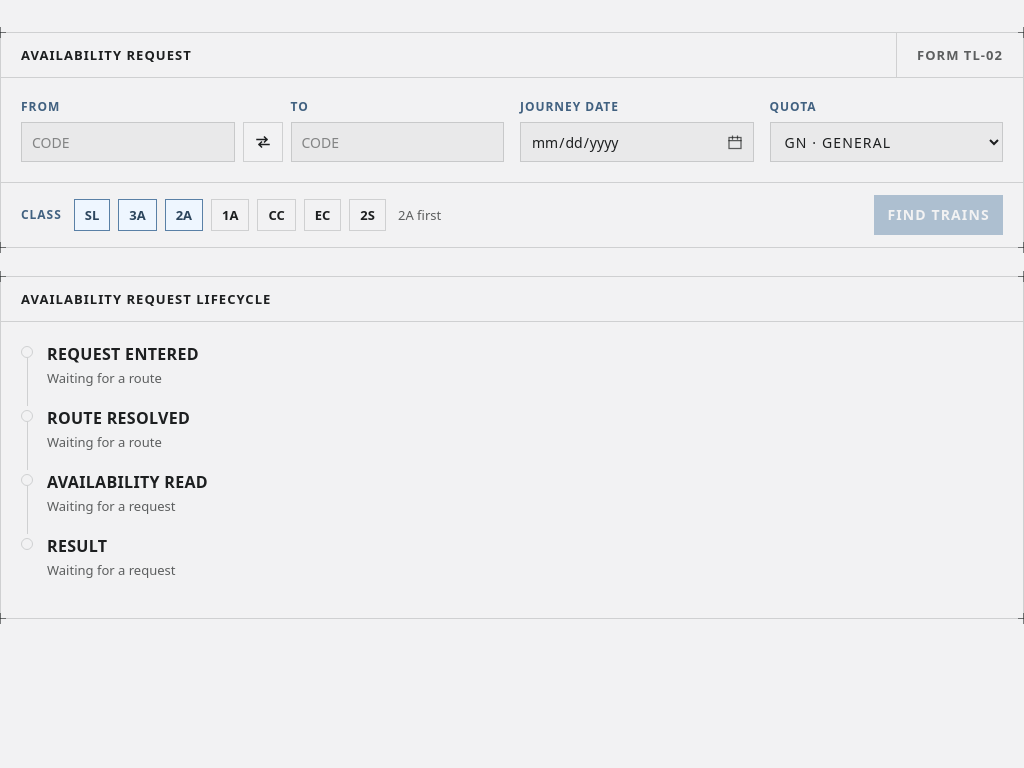
Test: searching a route › shows a refusal and no list when the search is refused
Type "SBC" into the dropdown labelled "From" at (128, 142), box [21,122,234,162]
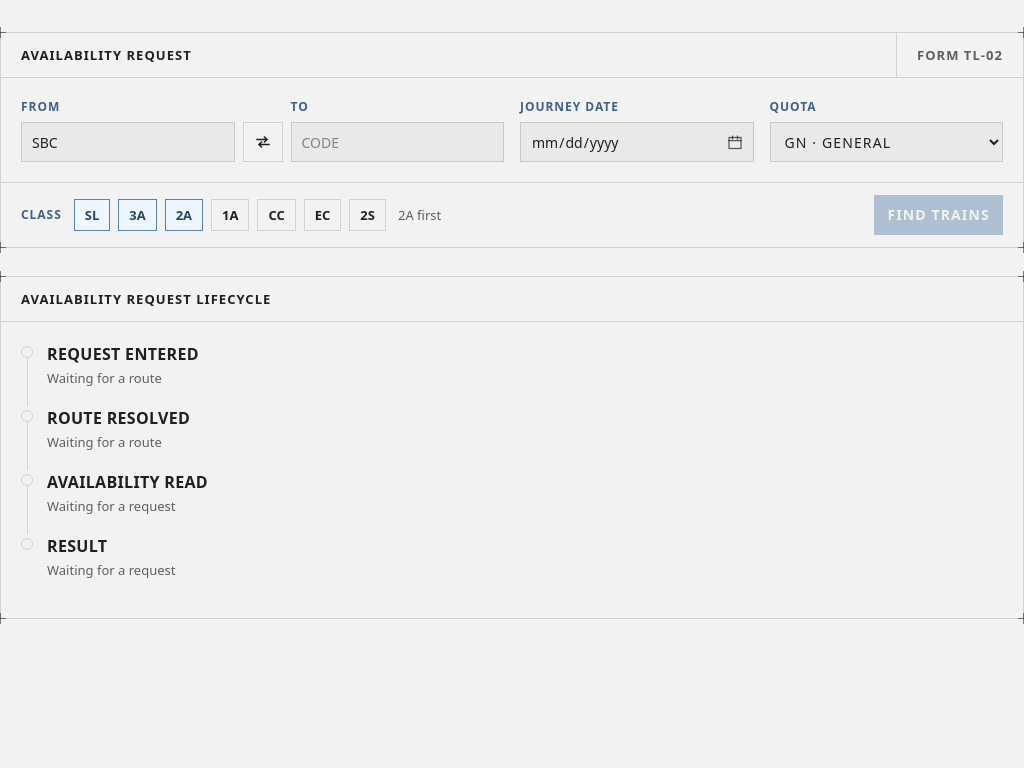
Type "NDLS" into the dropdown labelled "To" at (397, 142), box [290,122,504,162]
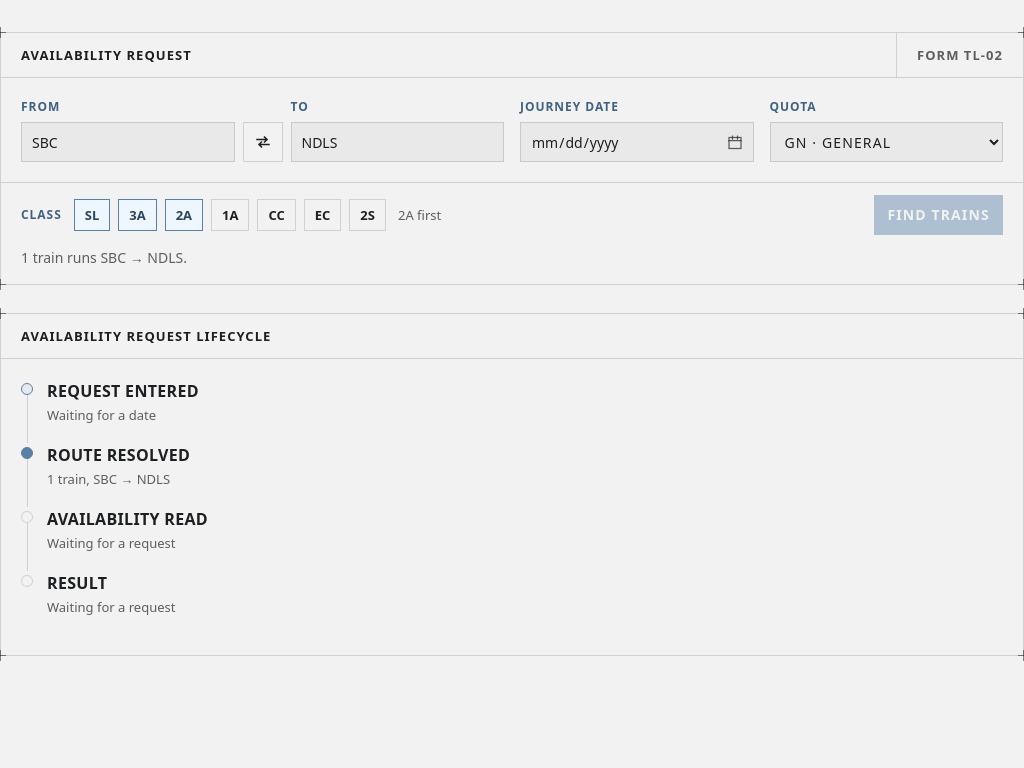
Check: the text "1 train runs SBC → NDLS." is shown, box [21,248,187,267]
Type "2026-10-16" into the date field labelled "Journey date" at (637, 142), box [520,122,754,162]
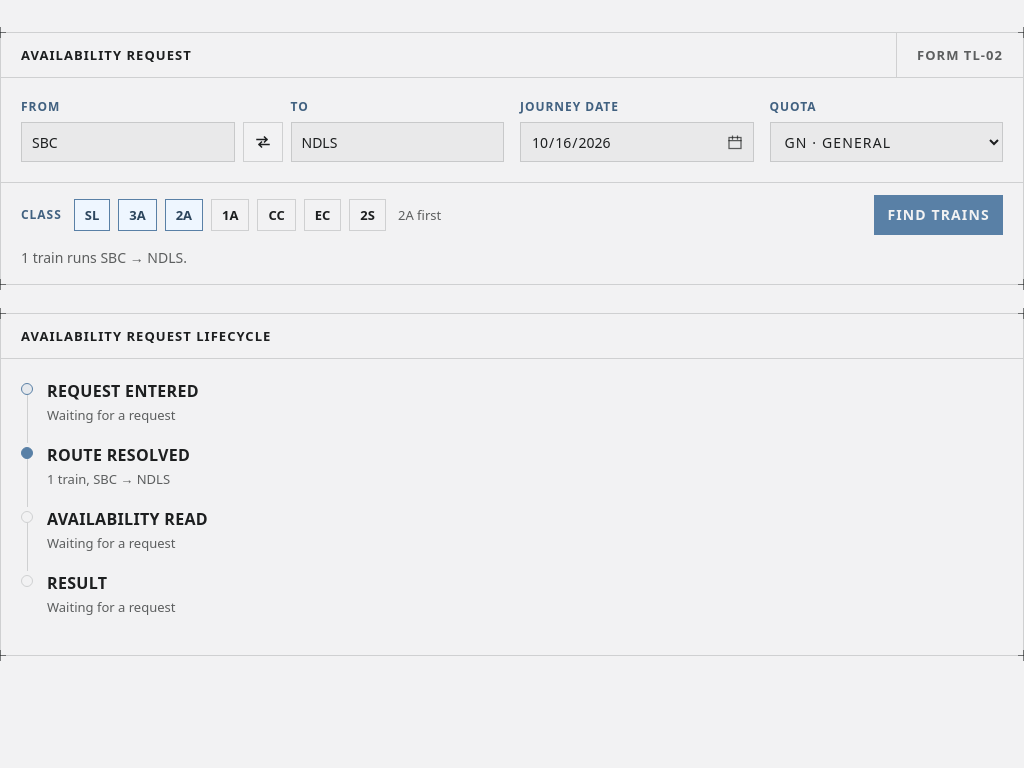
Click the button "Find trains" at (939, 215), box [874,195,1003,235]
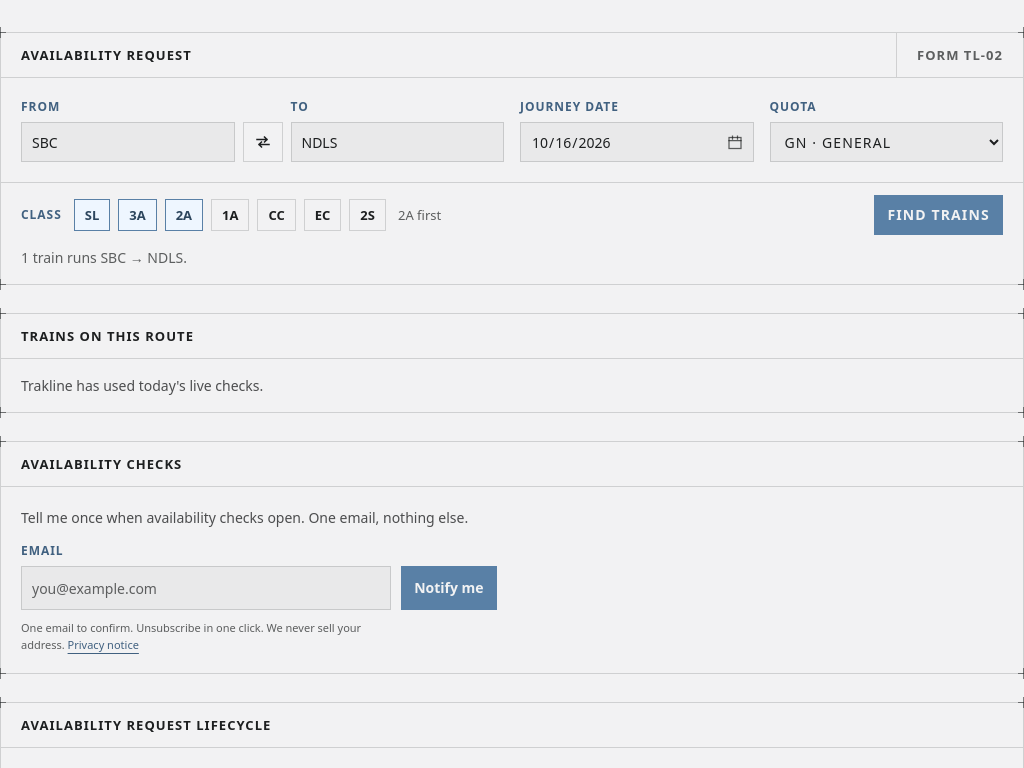
Check: the text "Trakline has used today's live checks." is shown, box [21,376,263,395]
